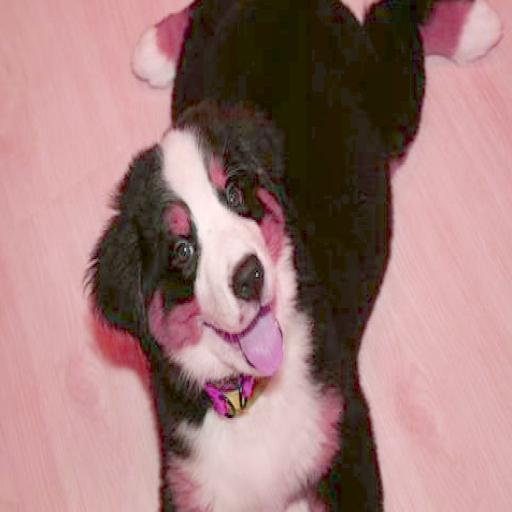dog_face: (90, 110, 289, 384)
